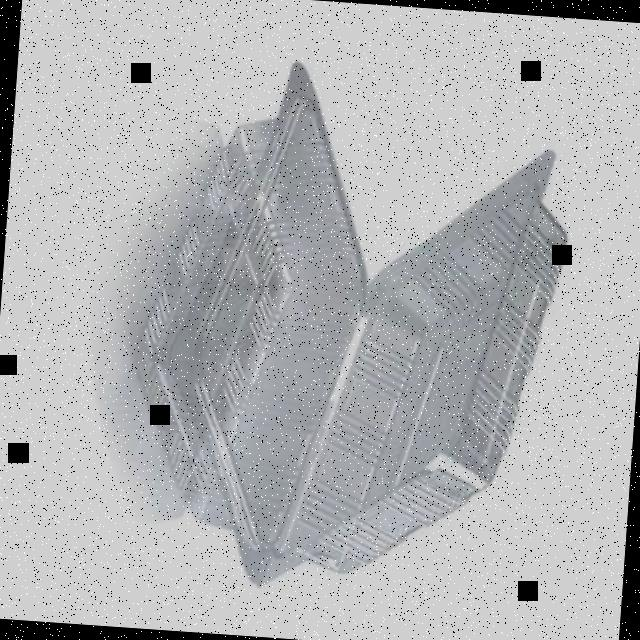plastic_box: (119, 51, 582, 608)
